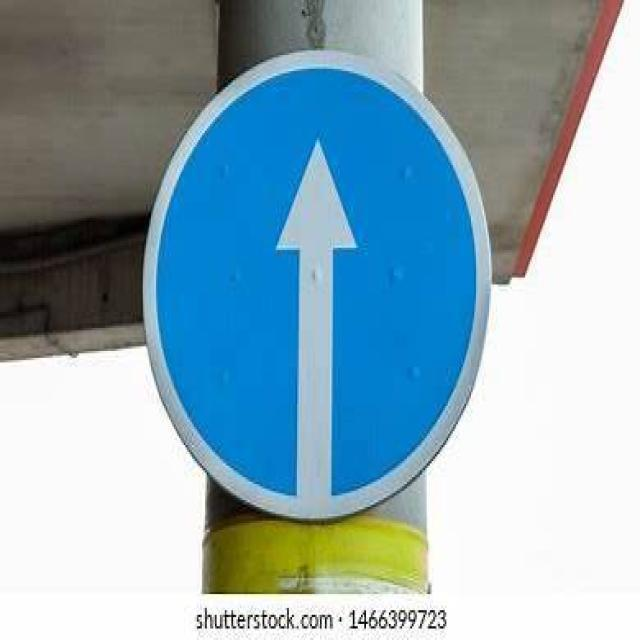compulsary ahead: (145, 49, 493, 521)
